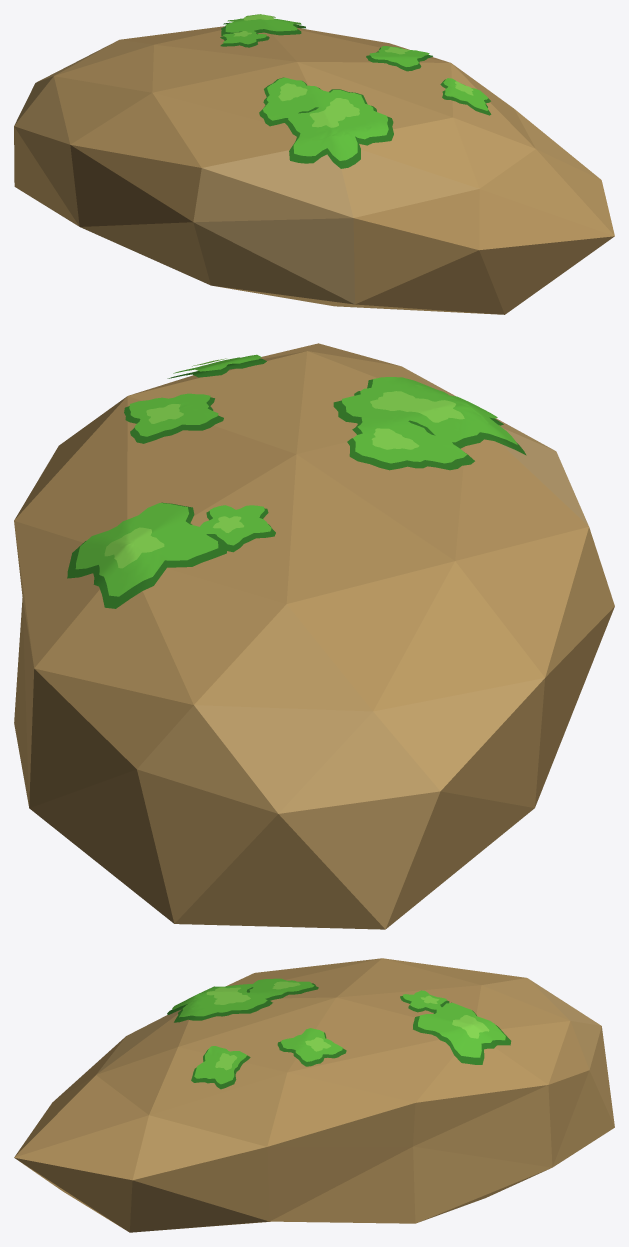
Rendered from rock_4_dots.glb.
3 views of the same model, one above another, from view 1: azimuth 30°, elevation 25°; view 2: azimuth 150°, elevation 25°; view 3: azimuth 270°, elevation 25° (orthographic). The views are drawn at different scales.
Parts seen in each view (by area): view 1: rock_4_dots; view 2: rock_4_dots; view 3: rock_4_dots.
Part boxes in pixels (x1,y1,x2,y2): rock_4_dots: (14, 14, 614, 314); rock_4_dots: (14, 343, 614, 929); rock_4_dots: (14, 958, 614, 1232).
Bounding box in the file's own units: 1.62 × 0.7624 × 2.23.
